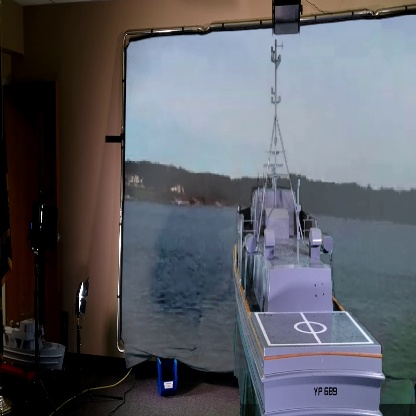YP689: (231, 38, 387, 416)
